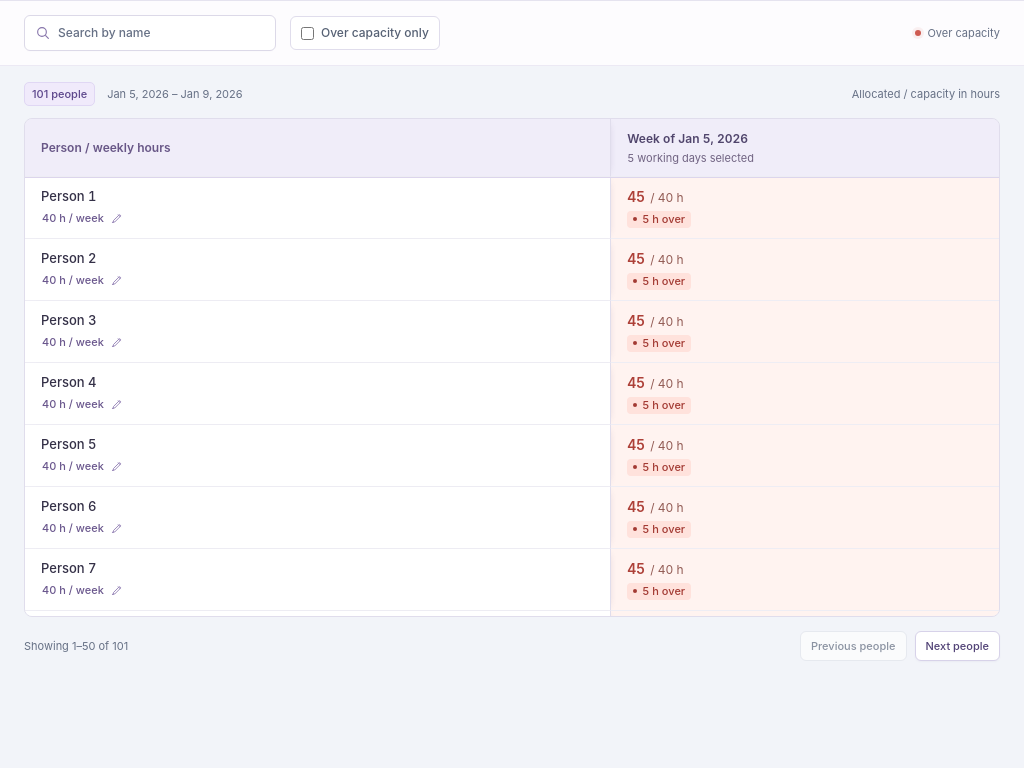
Test: capacity planning › preserves the people page after save and restores focus to the edited row
The width and height of the screenshot is (1024, 768).
expect the text "Person 1" is shown: met, box [41,188,96,204]
Click the button "Next people". click: (957, 646)
box: [914,631,1000,661]
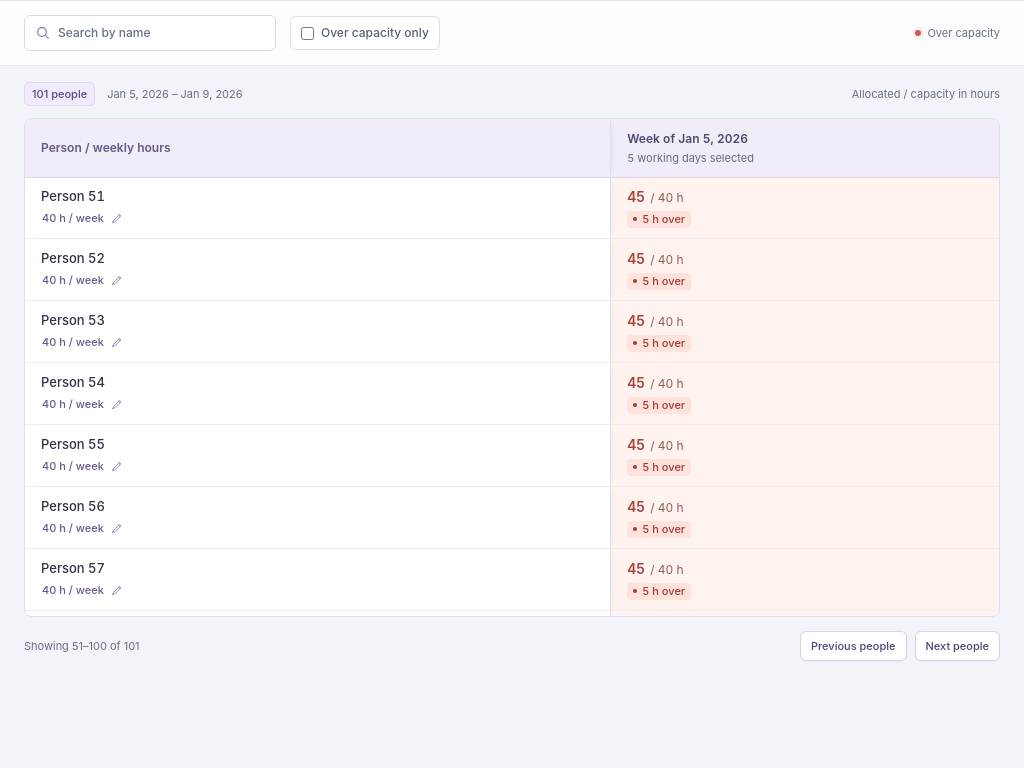
Click the button "Next people". click: (957, 646)
box: [914,631,1000,661]
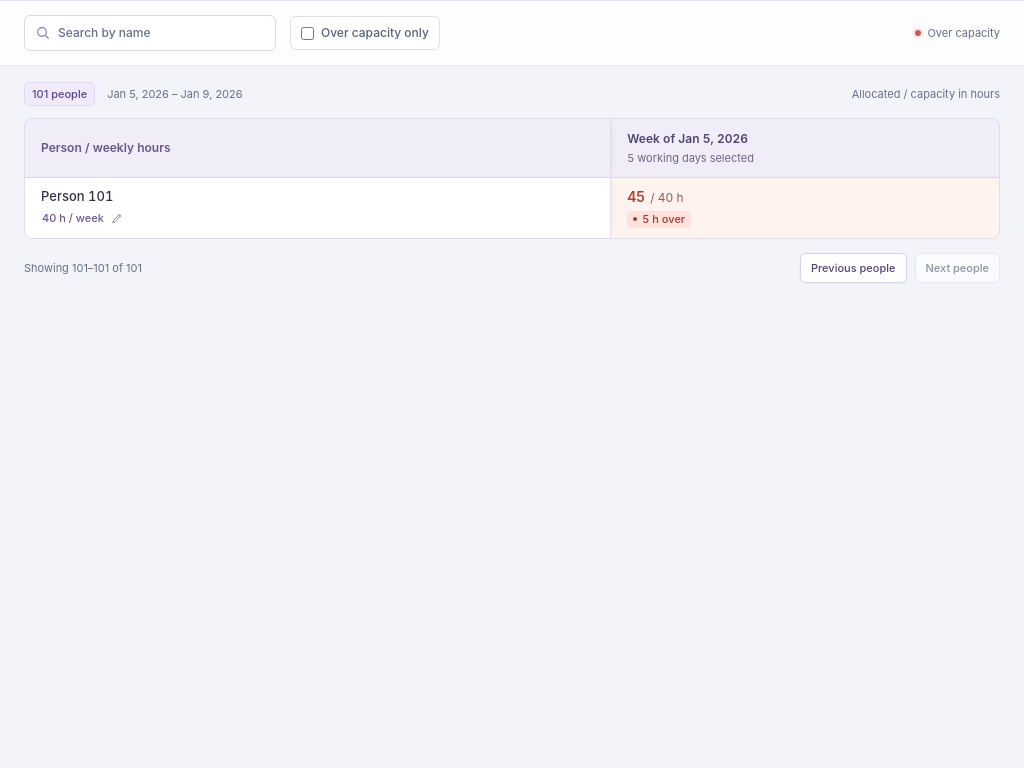
Click the button with aria-label "Edit weekly hours for Person 101". click: (82, 218)
box: [36,208,128,228]
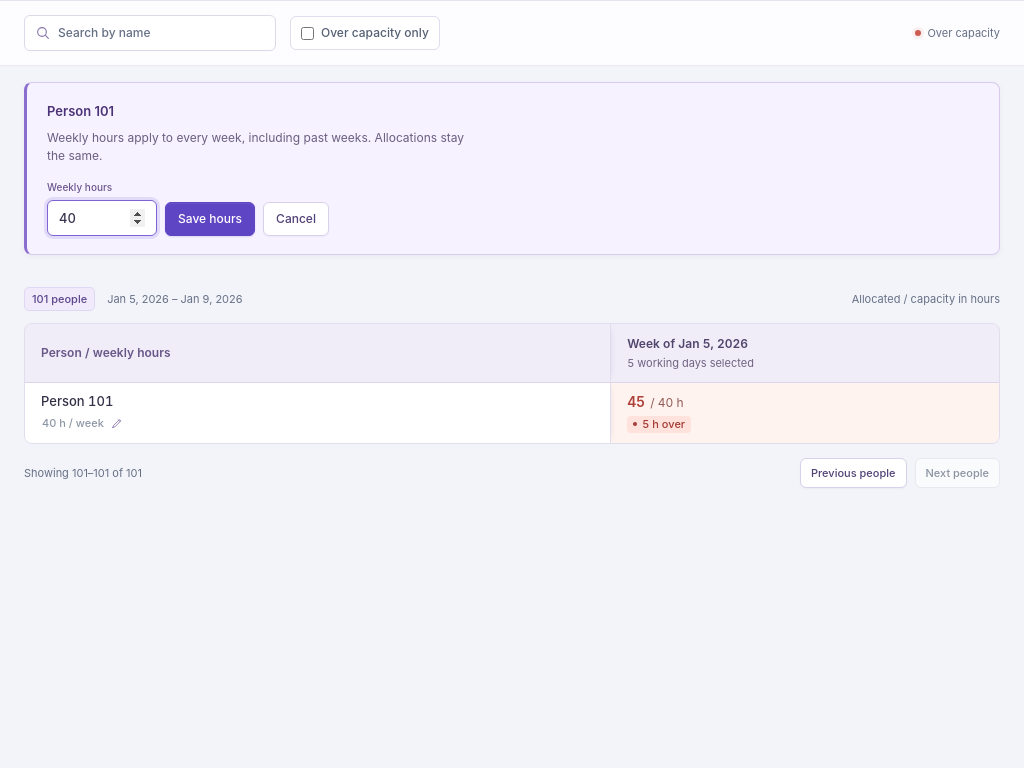
Replace the text in the number field labelled "Weekly hours" with "30". click: (102, 218)
box: [47,200,157,236]
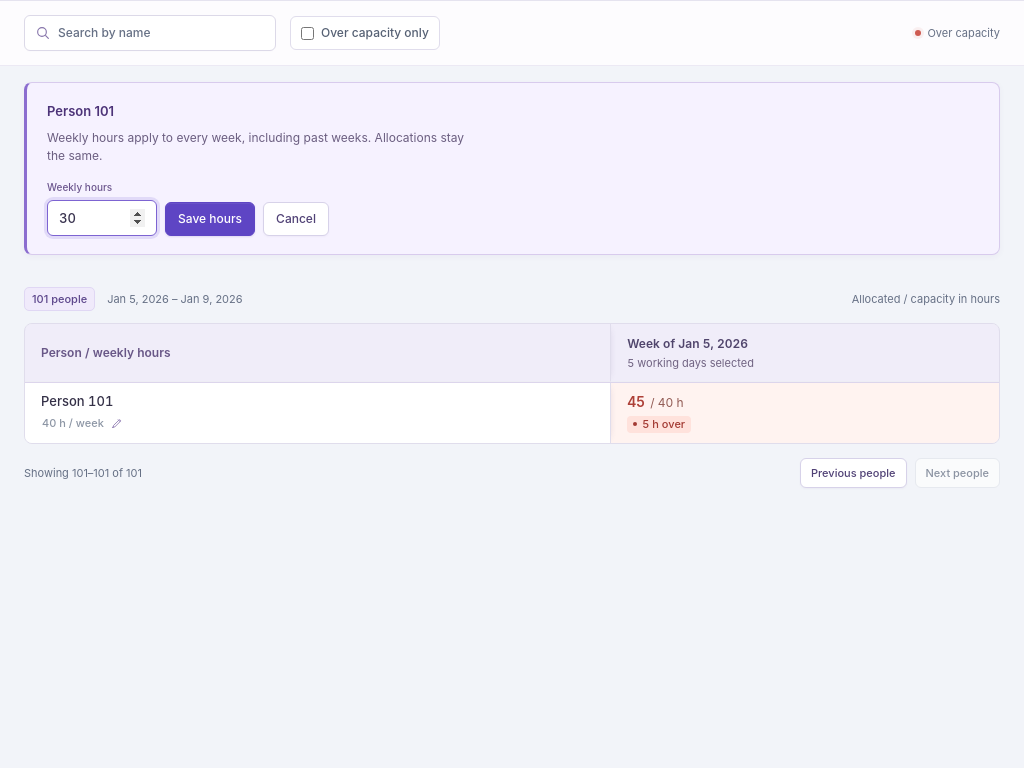
Click the button "Save hours". click: (210, 219)
box: [165,202,255,236]
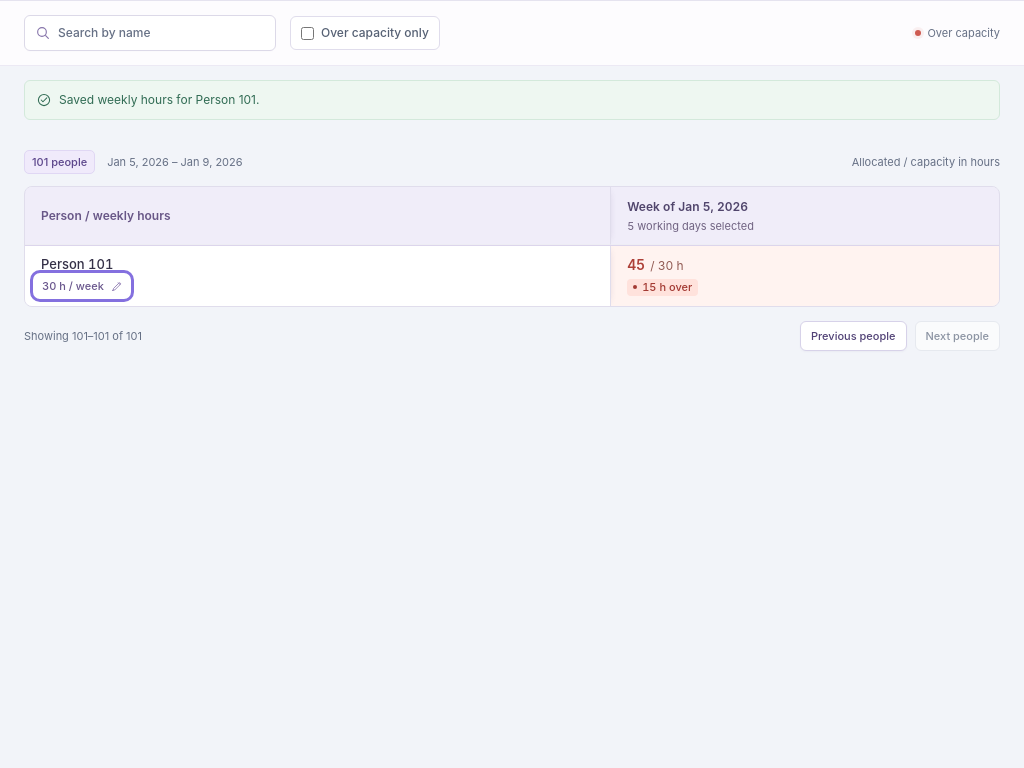
expect the text "Showing 101–101 of 101" is shown: met, box [24,327,142,345]
expect the text "15 h over" is shown: met, box [627,278,698,296]
